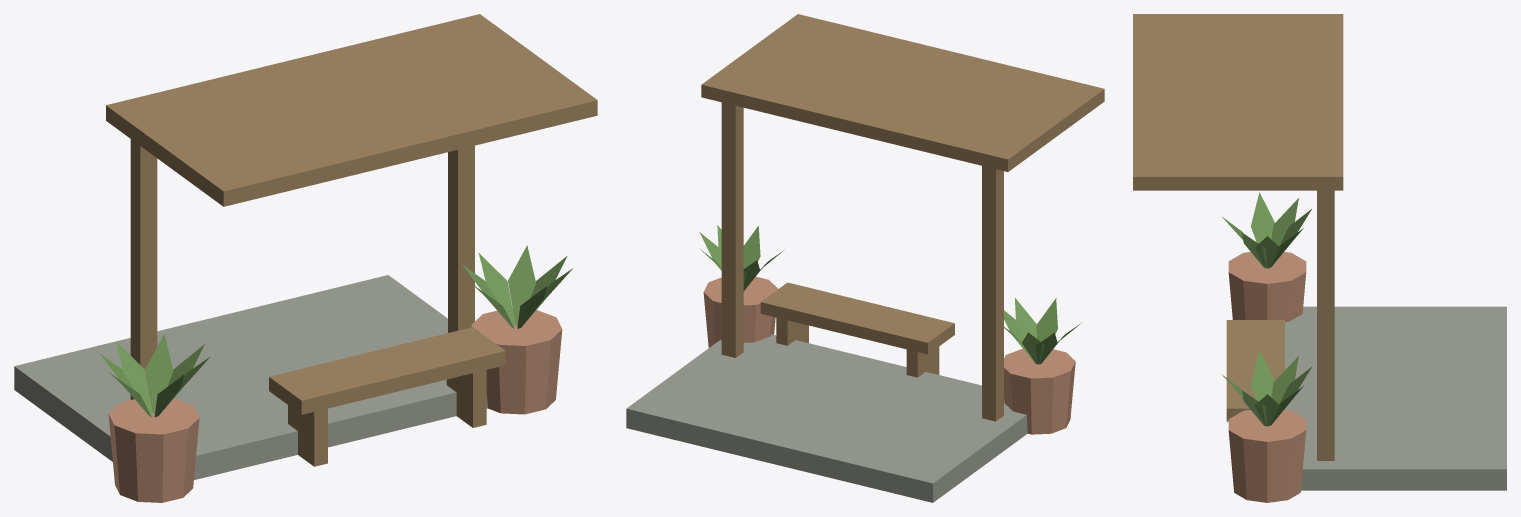
The model's file is detail_porch.glb.
The picture shows the model from 3 angles, left to right: view 1: azimuth 30°, elevation 25°; view 2: azimuth 150°, elevation 25°; view 3: azimuth 270°, elevation 25°; orthographic projection. The views are drawn at different scales.
Visible parts, largest first — view 1: detail_porch; view 2: detail_porch; view 3: detail_porch.
Boxes of the visible parts, x1,y1,x2,y2 form: detail_porch: (14, 14, 597, 502); detail_porch: (626, 14, 1104, 502); detail_porch: (1133, 14, 1506, 502).
Bounding box in the file's own units: 4.09 × 2.96 × 3.2.
